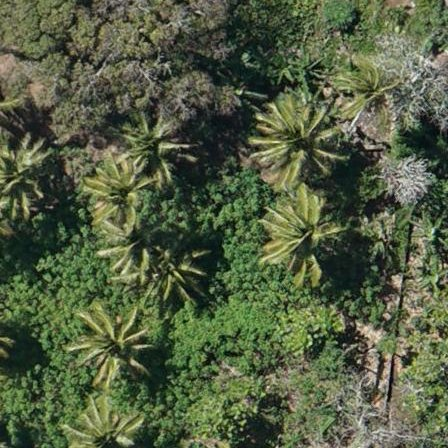palm_tree: (255, 95, 338, 184), (259, 192, 340, 279), (65, 305, 149, 388), (82, 157, 155, 230), (64, 393, 144, 448)
